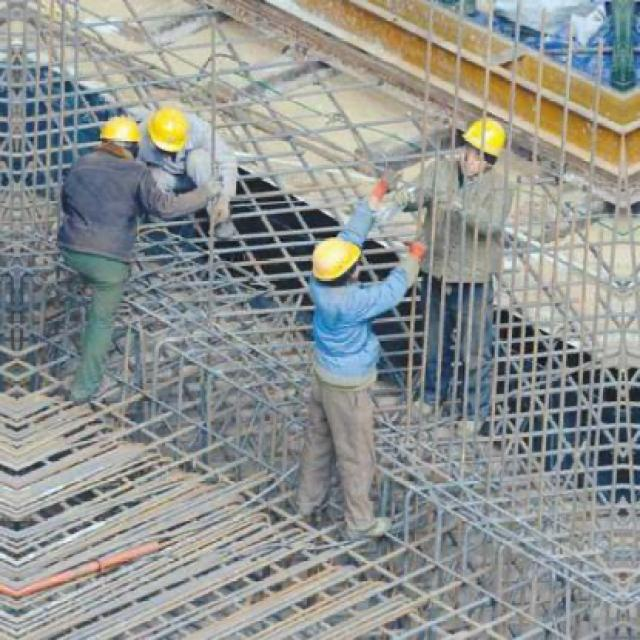helmet: (312, 234, 368, 291), (459, 116, 506, 176), (146, 103, 193, 163), (94, 115, 142, 163)
